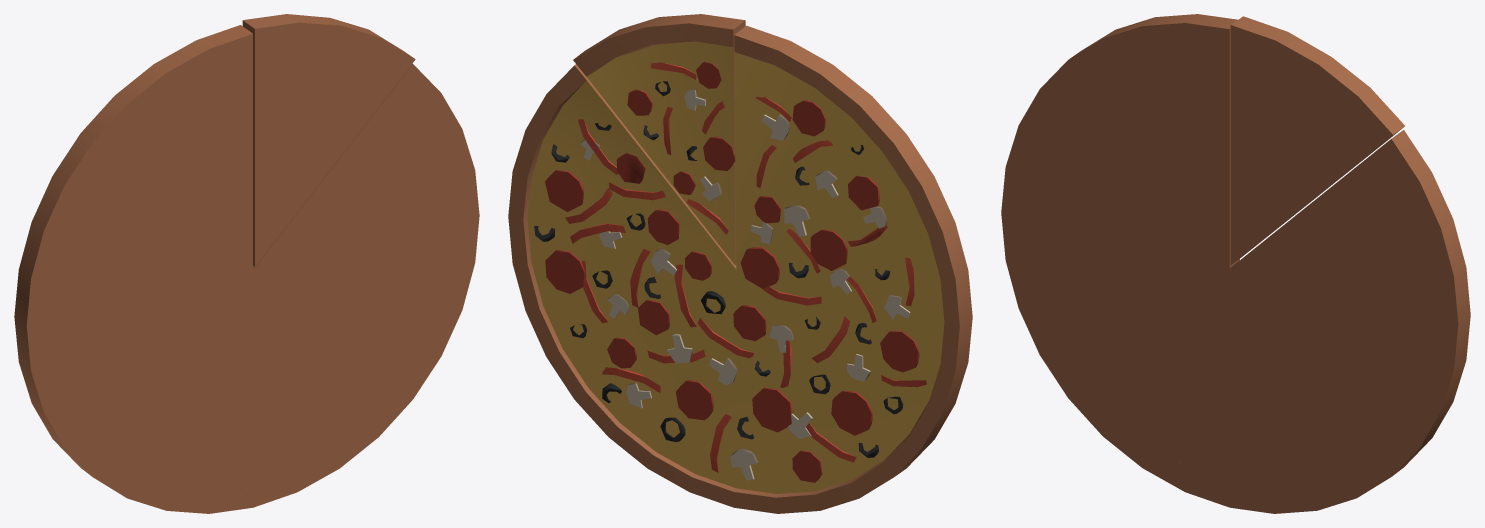
Rendered from pizza_low_rootss135.fbx.
3 views of the same model, side by side, from view 1: azimuth 30°, elevation 25°; view 2: azimuth 150°, elevation 25°; view 3: azimuth 330°, elevation 25° (orthographic).
Visible parts, largest first — view 1: pizza_low_sh_14, pizza_low_sh_15, pizza_low_sh_16, pizza_low_sh_12, pizza_low_sh_18, pizza_low_sh_13, pizza_low_sh_5, pizza_low_sh_10, pizza_low_sh_1, pizza_low_sh_2, pizza_low_sh_4, pizza_low_sh_17 (+2 smaller); view 2: pizza_low_sh_14, pizza_low_sh_15, pizza_low_sh_12, pizza_low_sh_13, pizza_low_sh_18, pizza_low_sh_16, pizza_low_sh_5, pizza_low_sh_10, pizza_low_sh_2, pizza_low_sh_1, pizza_low_sh_4, pizza_low_sh_17 (+22 smaller); view 3: pizza_low_sh_14, pizza_low_sh_15, pizza_low_sh_16, pizza_low_sh_12, pizza_low_sh_18, pizza_low_sh_13, pizza_low_sh_5, pizza_low_sh_10, pizza_low_sh_2, pizza_low_sh_1, pizza_low_sh_4, pizza_low_sh_17 (+2 smaller).
Part boxes in pixels (x1,y1,x2,y2): pizza_low_sh_14: (14,204,285,490); pizza_low_sh_15: (39,33,252,222); pizza_low_sh_16: (278,137,479,341); pizza_low_sh_12: (214,356,440,502); pizza_low_sh_18: (264,66,464,269); pizza_low_sh_13: (285,230,478,367); pizza_low_sh_5: (253,68,408,254); pizza_low_sh_10: (32,404,215,513); pizza_low_sh_1: (242,14,322,92); pizza_low_sh_2: (303,15,415,85); pizza_low_sh_4: (253,59,309,186); pizza_low_sh_17: (215,453,358,512); pizza_low_sh_14: (705,204,972,486); pizza_low_sh_15: (734,35,946,222); pizza_low_sh_12: (547,357,775,505); pizza_low_sh_13: (508,217,705,366); pizza_low_sh_18: (522,69,726,268); pizza_low_sh_16: (508,140,710,329); pizza_low_sh_5: (581,70,736,253); pizza_low_sh_10: (770,408,952,513); pizza_low_sh_2: (573,15,678,87); pizza_low_sh_1: (672,14,745,90); pizza_low_sh_4: (679,57,735,186); pizza_low_sh_17: (636,459,770,512); pizza_low_sh_14: (1001,110,1262,470); pizza_low_sh_15: (1027,14,1230,209); pizza_low_sh_16: (1255,231,1470,356); pizza_low_sh_12: (1190,382,1430,504); pizza_low_sh_18: (1242,135,1456,279); pizza_low_sh_13: (1262,316,1470,447); pizza_low_sh_5: (1230,116,1394,257); pizza_low_sh_10: (1021,314,1192,494); pizza_low_sh_2: (1298,41,1404,140); pizza_low_sh_1: (1230,16,1303,117); pizza_low_sh_4: (1230,57,1286,184); pizza_low_sh_17: (1192,484,1335,513).
Size of the model in its own units: 874 by 882 by 50.22.
2 materials, 1 textured.
